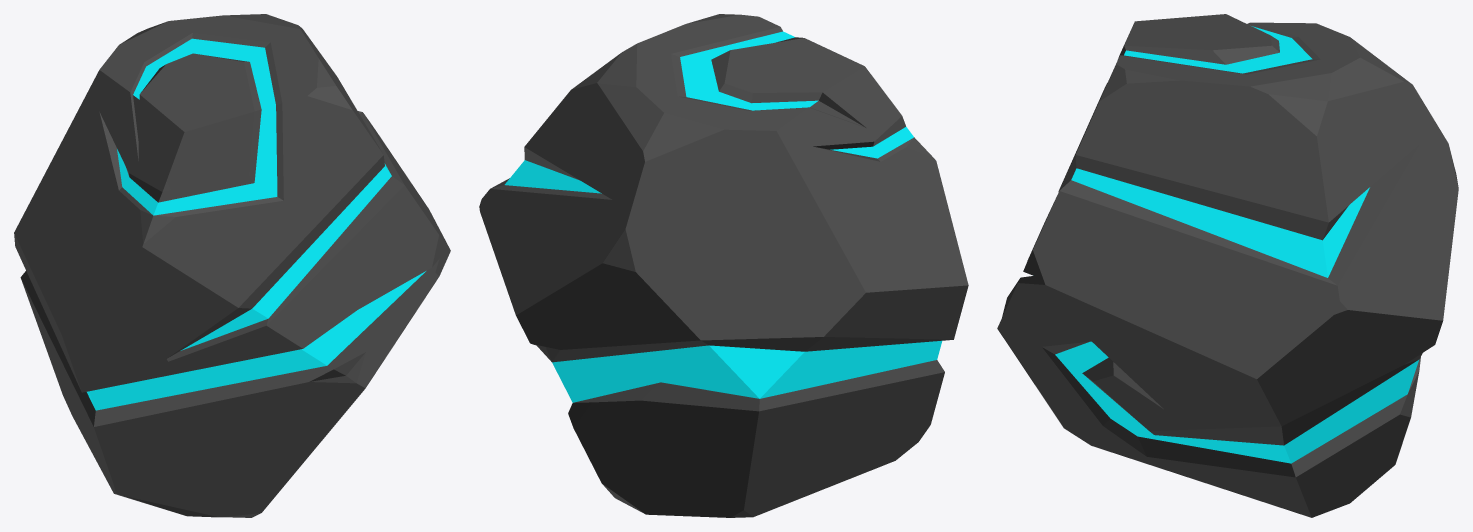
Rendered from Stone_Magic_01.glb.
3 renders of one model, left to right at view 1: azimuth 30°, elevation 25°; view 2: azimuth 150°, elevation 25°; view 3: azimuth 270°, elevation 25°, orthographic. The views are drawn at different scales.
Parts seen in each view (by area): view 1: Stone_Magic_01; view 2: Stone_Magic_01; view 3: Stone_Magic_01.
Part boxes in pixels (x1,y1,x2,y2): Stone_Magic_01: [14, 14, 450, 517]; Stone_Magic_01: [479, 14, 968, 517]; Stone_Magic_01: [997, 14, 1458, 517].
Size of what is drawn, in the model's own units: 2.57 by 2.45 by 2.36.
Materials: 2 (2 with a texture image).
